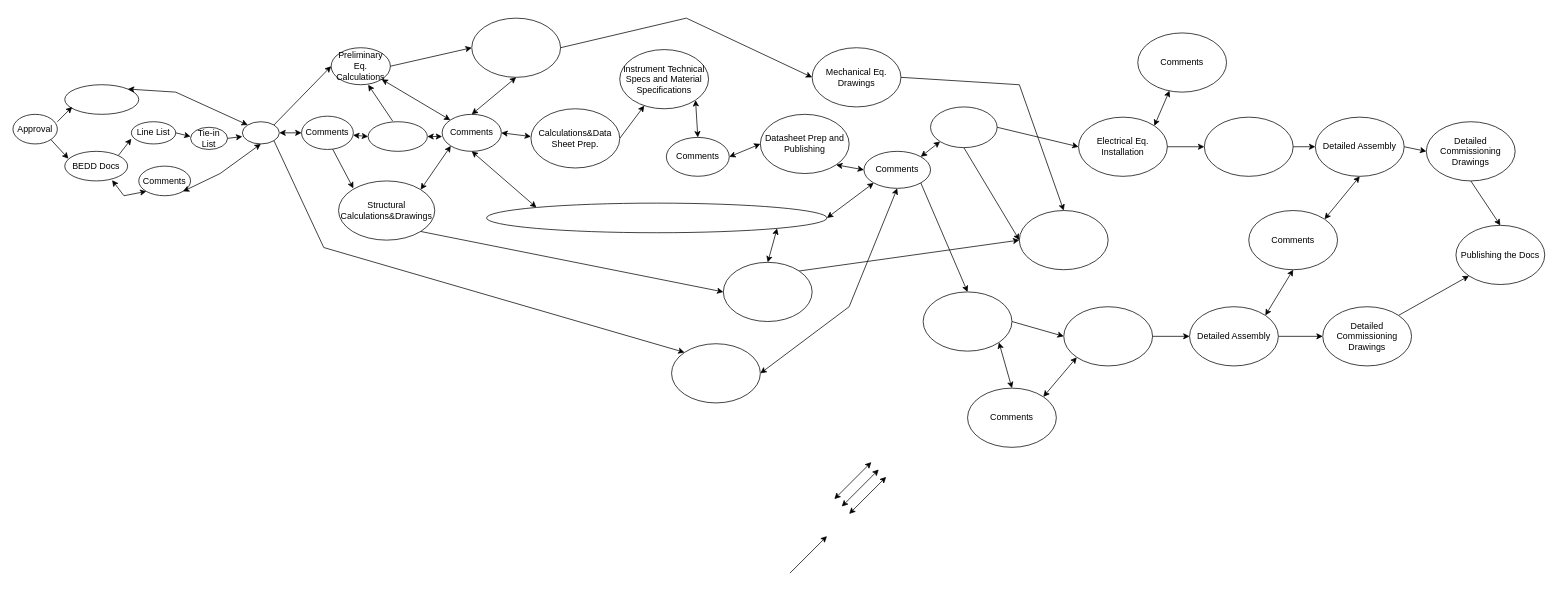
Some shapes in this 1558 by 592 pixel diagram are drawn without their labels. The shapes that lost their labels are listed below. From the top down, each one's box as (x1, y1, x2, y2) in pixels, then its label:
(471, 17, 561, 77): Final Piping Eq. Calculations
(64, 84, 139, 114): Piping Specs
(242, 121, 279, 144): P&ID
(367, 121, 427, 151): Equipment Data Sheet
(930, 106, 997, 148): Finalizing the specs
(1204, 116, 1293, 176): Electrical Eq. Calculations
(486, 202, 827, 233): Plot Plan
(1019, 210, 1108, 270): Publishing the Documents
(723, 262, 812, 322): Architectural, steel and structural sheet preparation
(922, 291, 1012, 351): I&C Layouts
(1063, 306, 1153, 366): I&C Schedules
(671, 343, 760, 403): Eq. Technical Specs and Material Specs
